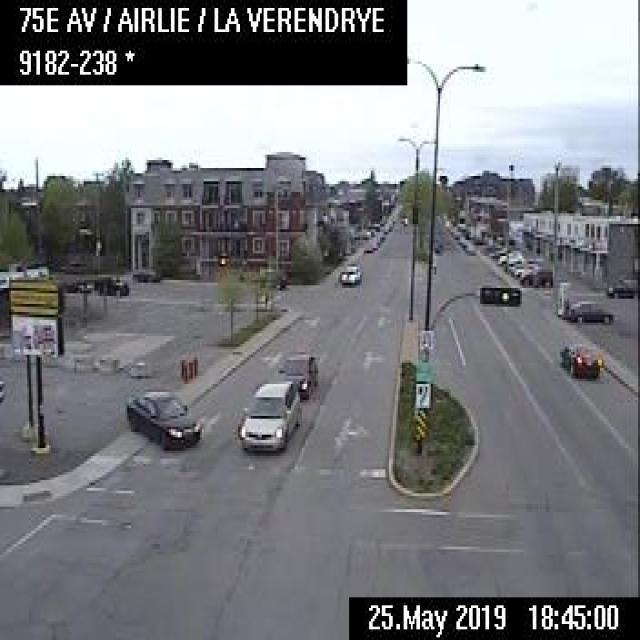construction: (182, 359, 188, 379), (187, 357, 192, 377)
vehicle: (239, 377, 300, 453), (124, 389, 201, 448), (274, 349, 316, 396), (558, 333, 602, 376), (567, 297, 613, 325), (93, 270, 127, 294), (518, 266, 550, 286), (336, 262, 362, 286), (607, 276, 635, 295), (128, 266, 160, 281), (496, 250, 522, 262), (464, 240, 474, 253), (362, 241, 372, 253)
